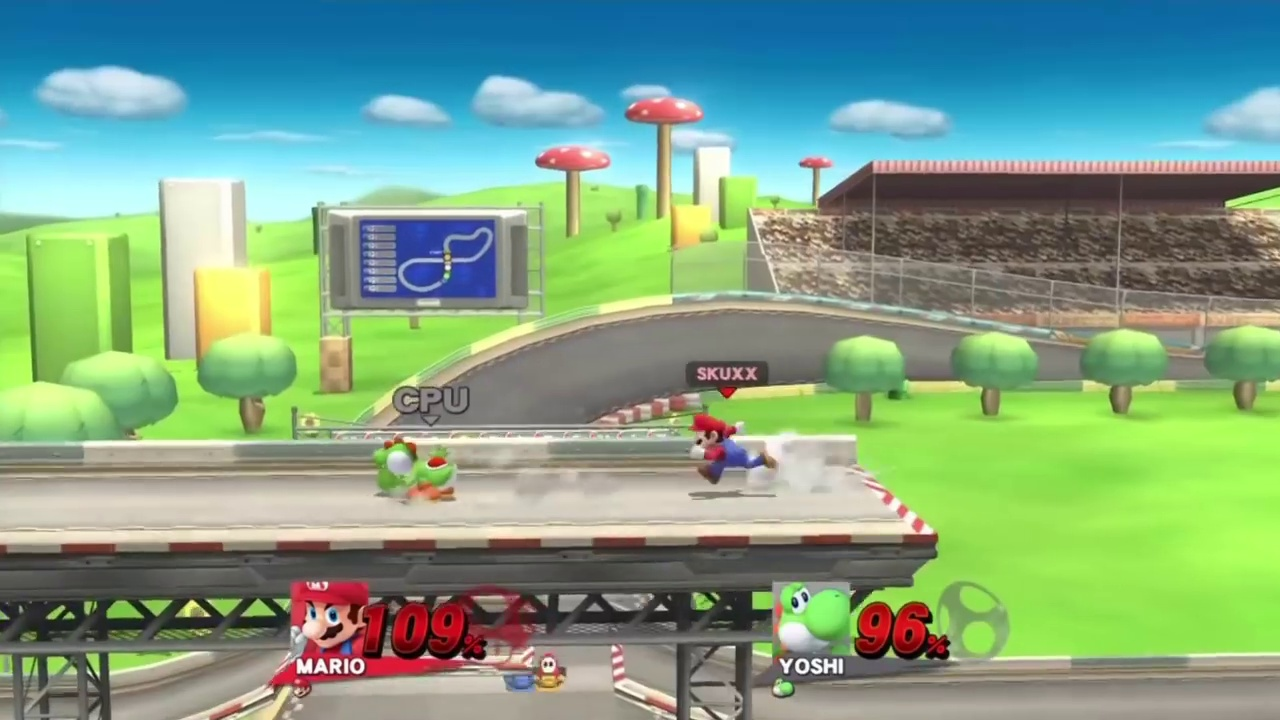Mario: (692, 417, 781, 486)
